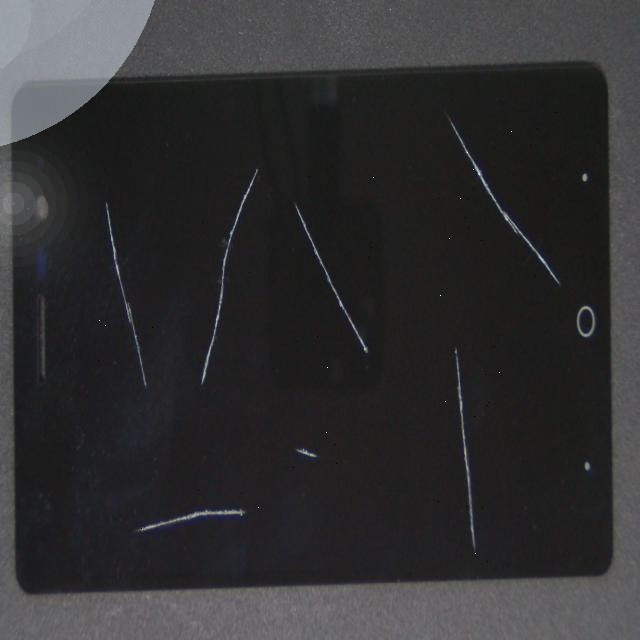scratch: (218, 190, 640, 577), (147, 186, 438, 640), (158, 0, 640, 274), (100, 115, 293, 522), (66, 236, 191, 640), (149, 105, 444, 271), (69, 84, 158, 283)
